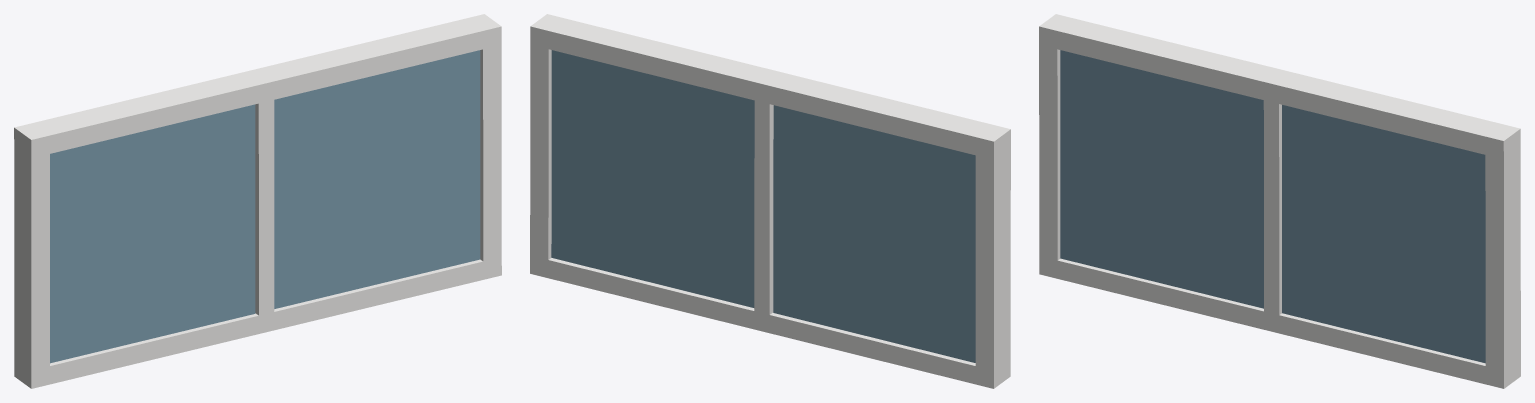
The model's file is Window_9.fbx.
3 renders of one model, left to right at view 1: azimuth 30°, elevation 25°; view 2: azimuth 150°, elevation 25°; view 3: azimuth 330°, elevation 25°, orthographic.
Parts seen in each view (by area): view 1: Window_9; view 2: Window_9; view 3: Window_9.
Boxes of the visible parts, x1=… form: Window_9: x1=14, y1=14, x2=501, y2=388; Window_9: x1=530, y1=14, x2=1010, y2=388; Window_9: x1=1039, y1=14, x2=1520, y2=388.
Bounding box in the file's own units: 257 × 17.86 × 131.
